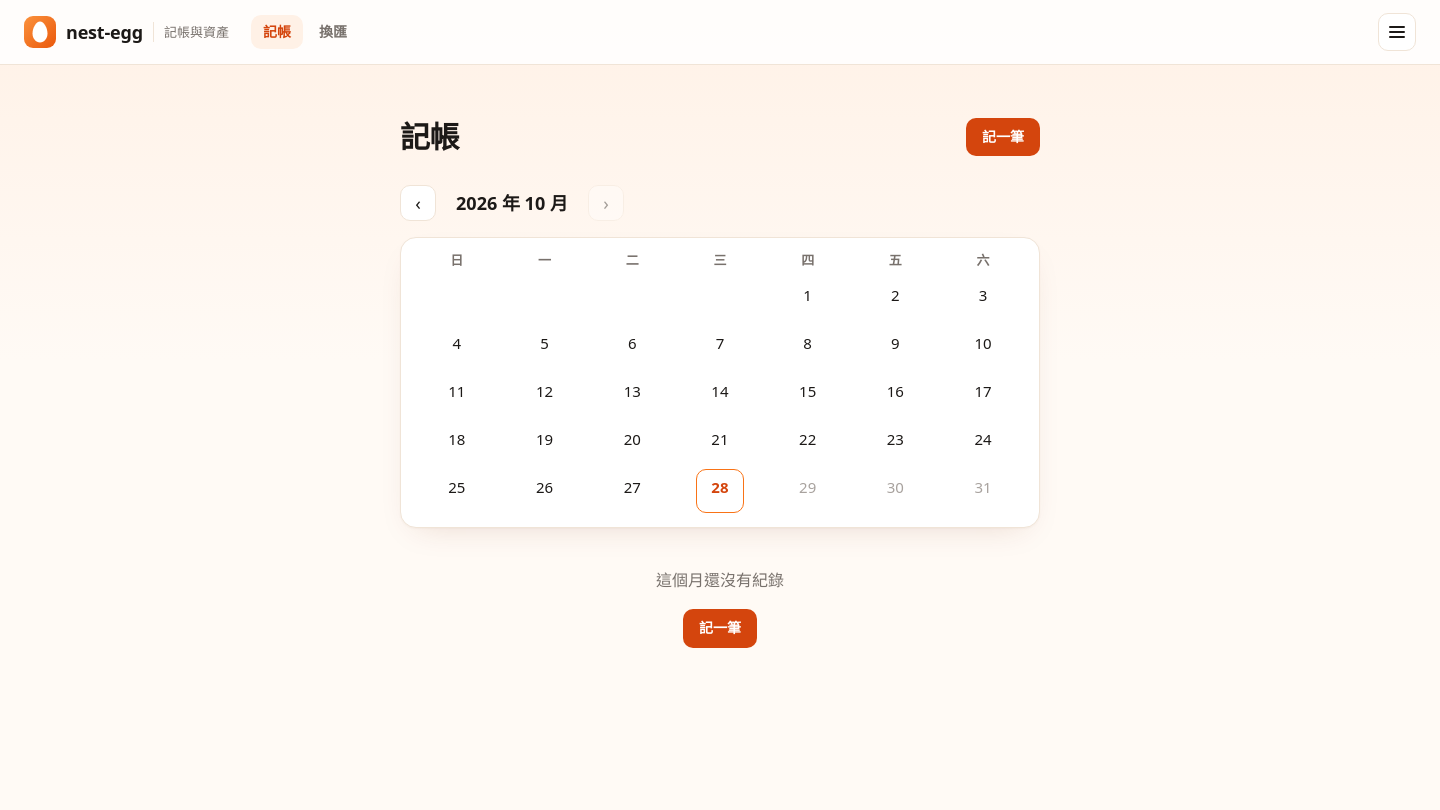
Test: keeps the account actions inside the menu until it is opened
This screenshot has width=1440, height=810.
Expected: the button "登出" is not shown
Expected: the link "變更密碼" is not shown
Click the button named "帳號選單" at [1397, 32], box [1378,13,1416,51]
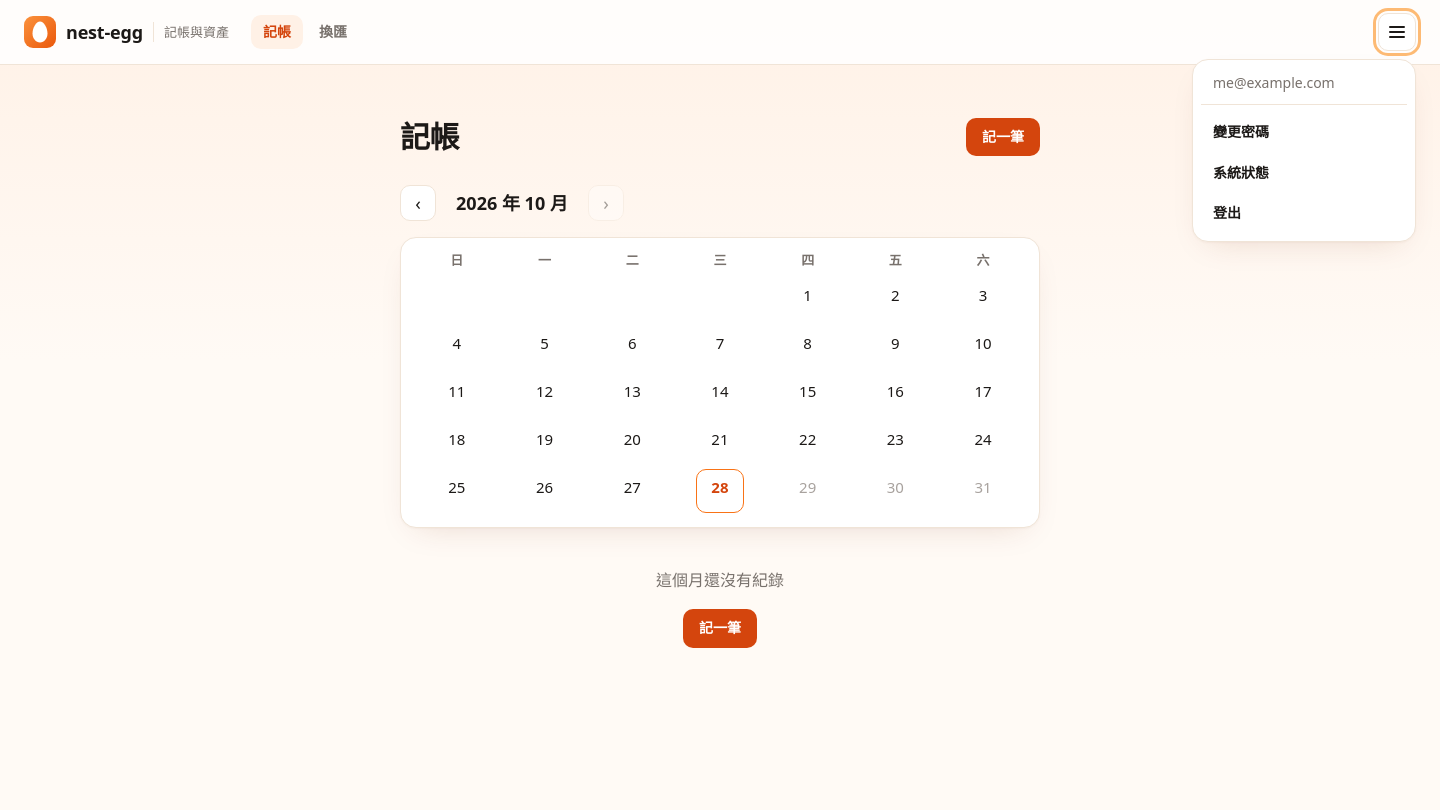
Result: the text "me@example.com" is shown at [1201,68,1407,105]
Result: the button "登出" is shown at [1201,194,1407,233]
